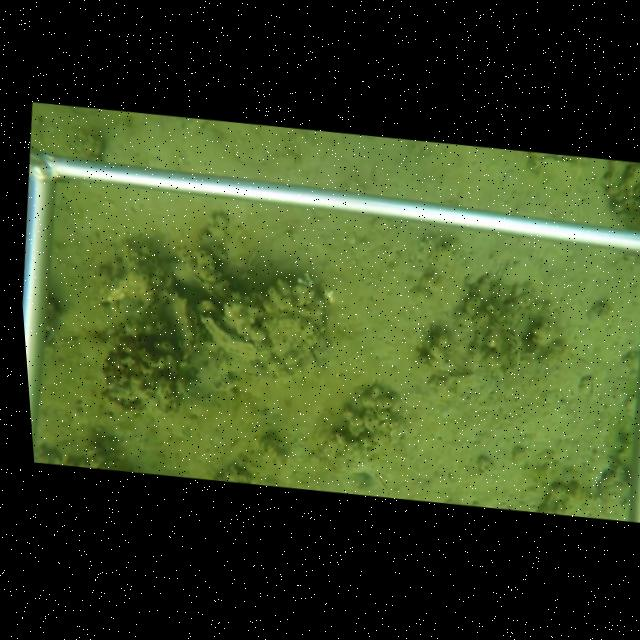Oyster-Closed: (200, 312, 260, 364), (163, 289, 202, 364)
